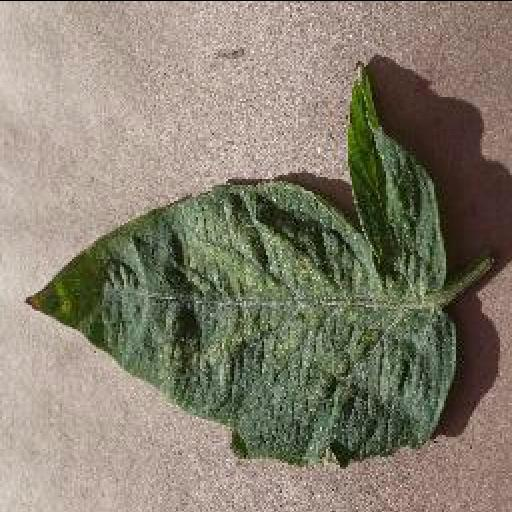disease_tomato: (24, 60, 458, 468)
